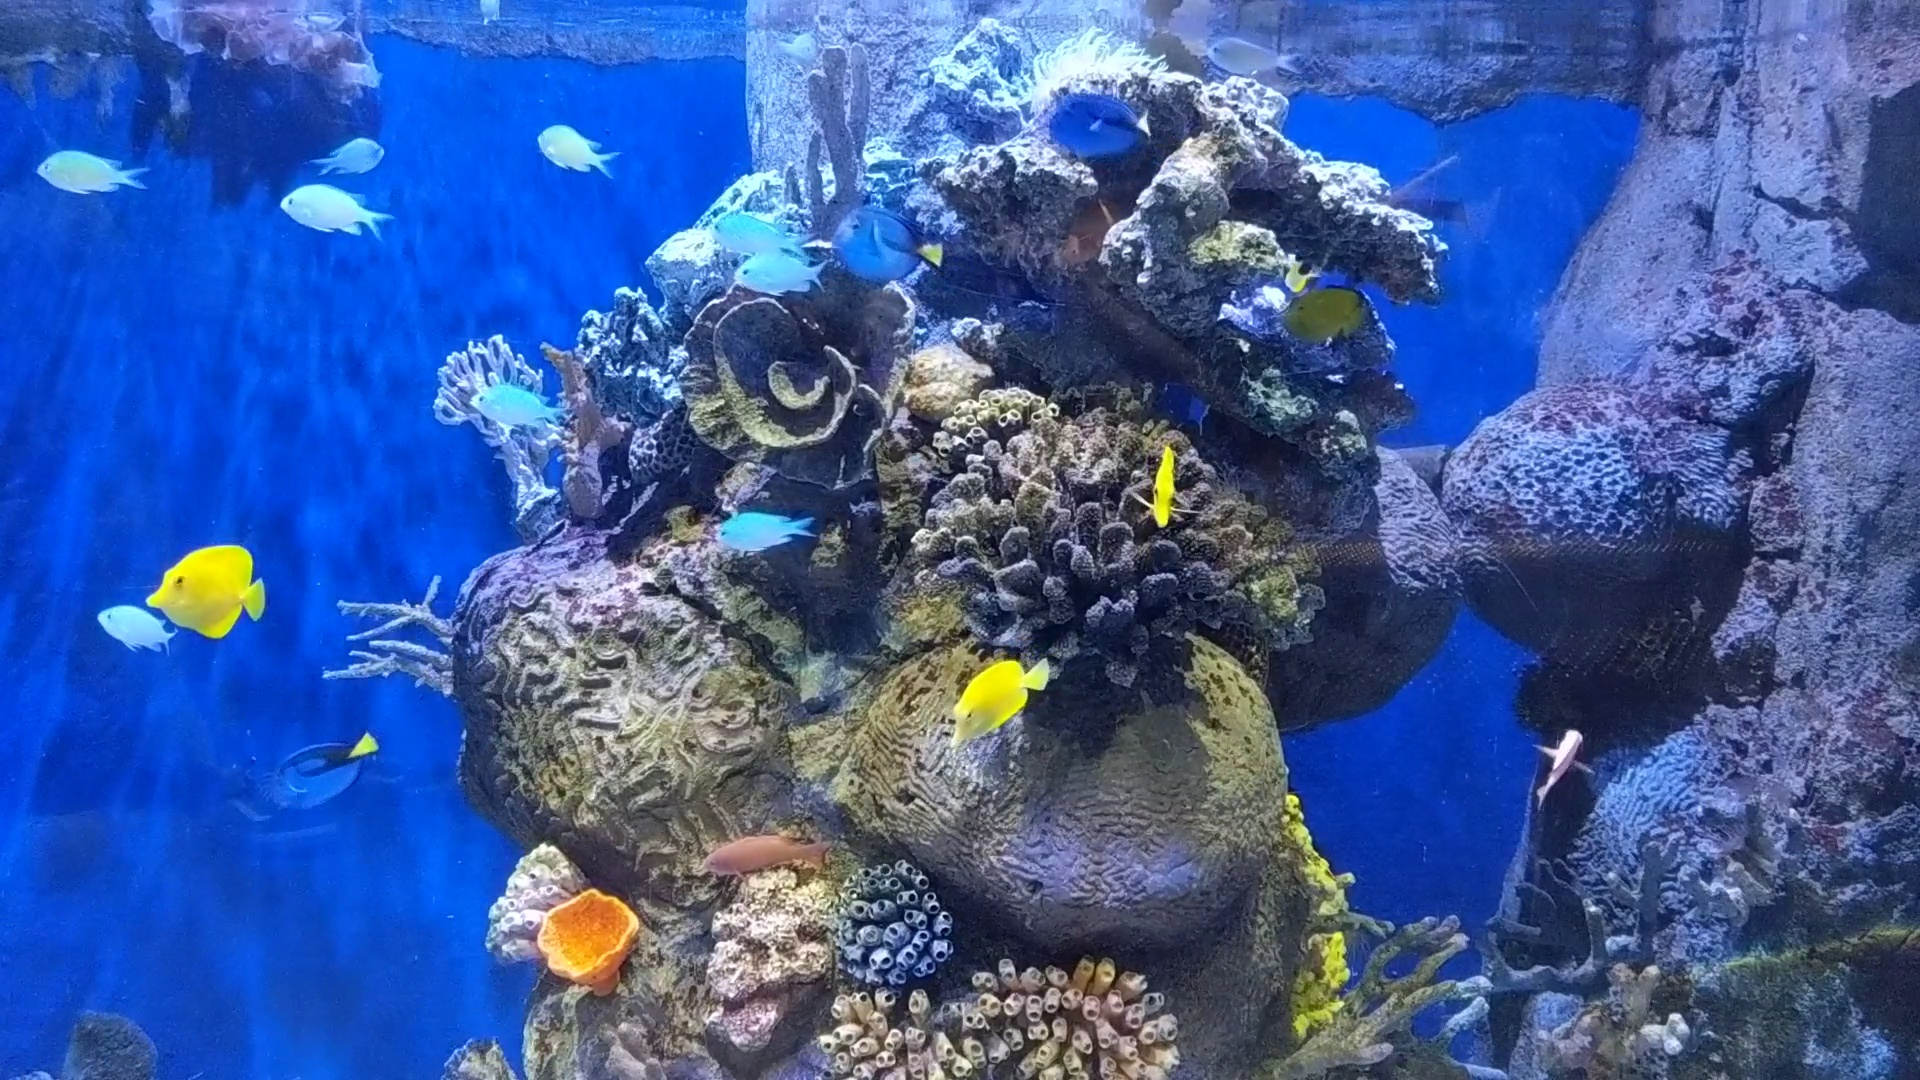blue tang surgeonfish: (827, 193, 978, 313), (247, 712, 388, 823), (1035, 71, 1163, 160)
damselfish: (15, 131, 146, 218), (260, 173, 402, 251), (702, 498, 819, 570), (458, 378, 572, 446), (702, 207, 818, 266), (76, 584, 175, 651), (524, 117, 620, 185), (302, 123, 390, 191), (723, 251, 829, 298)
pink fish: (1518, 712, 1594, 802)
saddle butterfly fish: (129, 538, 278, 644), (924, 644, 1055, 752), (1266, 272, 1375, 360), (1141, 436, 1189, 535)
